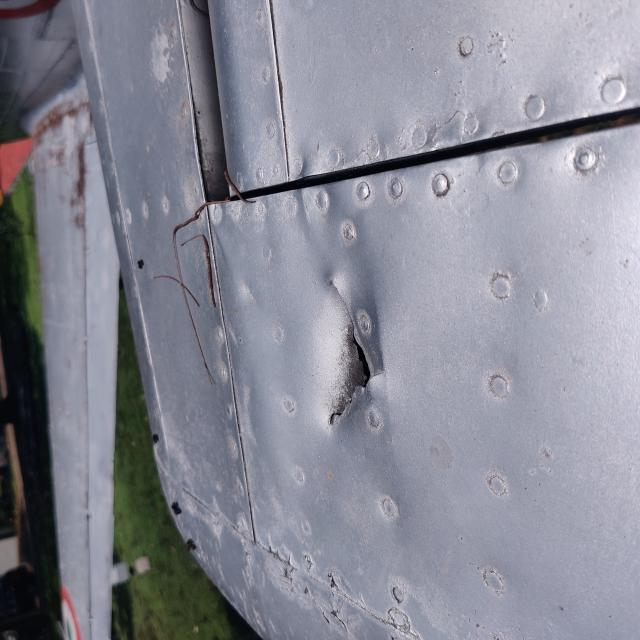crack: (185, 277, 378, 414)
